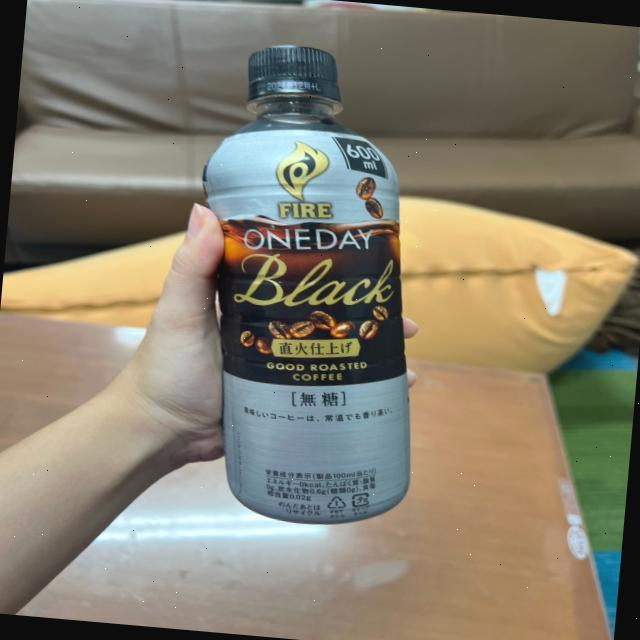coffee-black: (169, 28, 434, 528)
